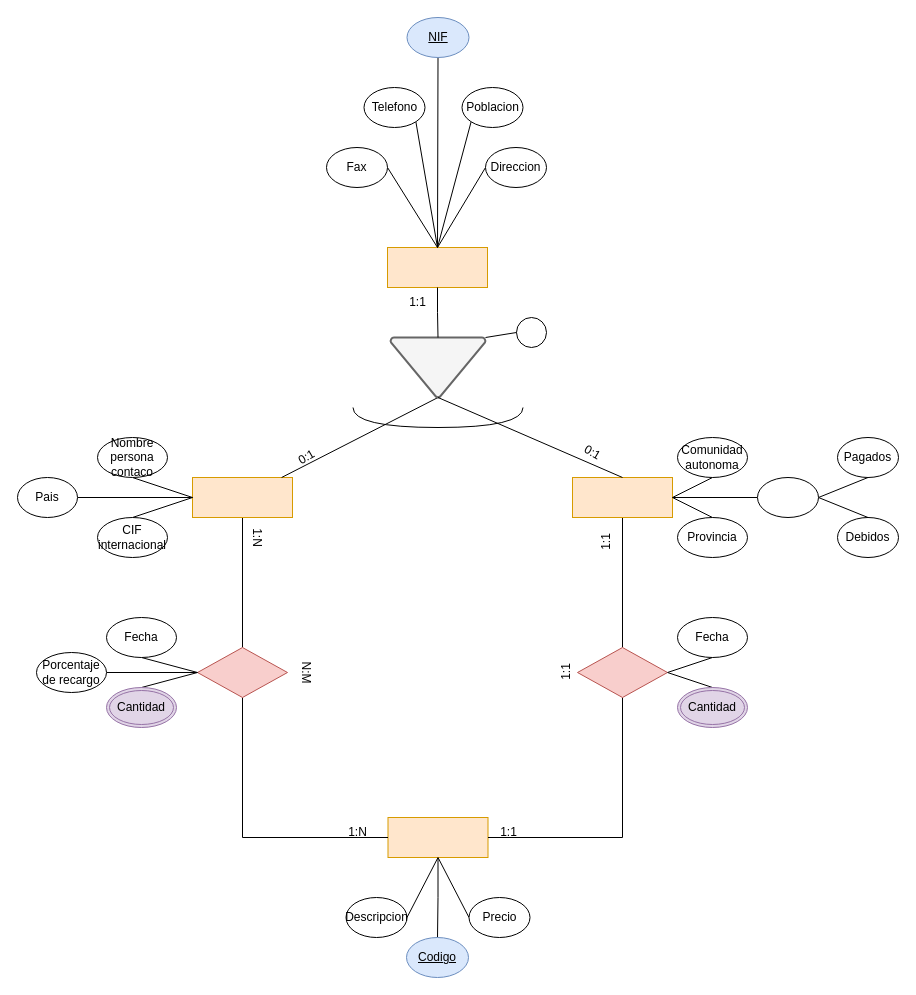
This 916x995 diagram has some shape labels left out. The centre of each missing label's shape, as x and y in pixels:
Cliente: (242,497)
Demanda: (242,672)
Empresa: (437,267)
Portes: (787,497)
Producto: (437,837)
Provee: (622,672)
Proveedora: (622,497)
Tipo: (531,332)
